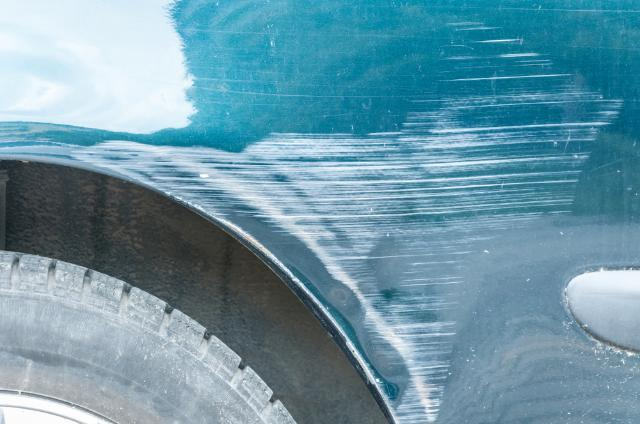scratch: (65, 10, 626, 424)
